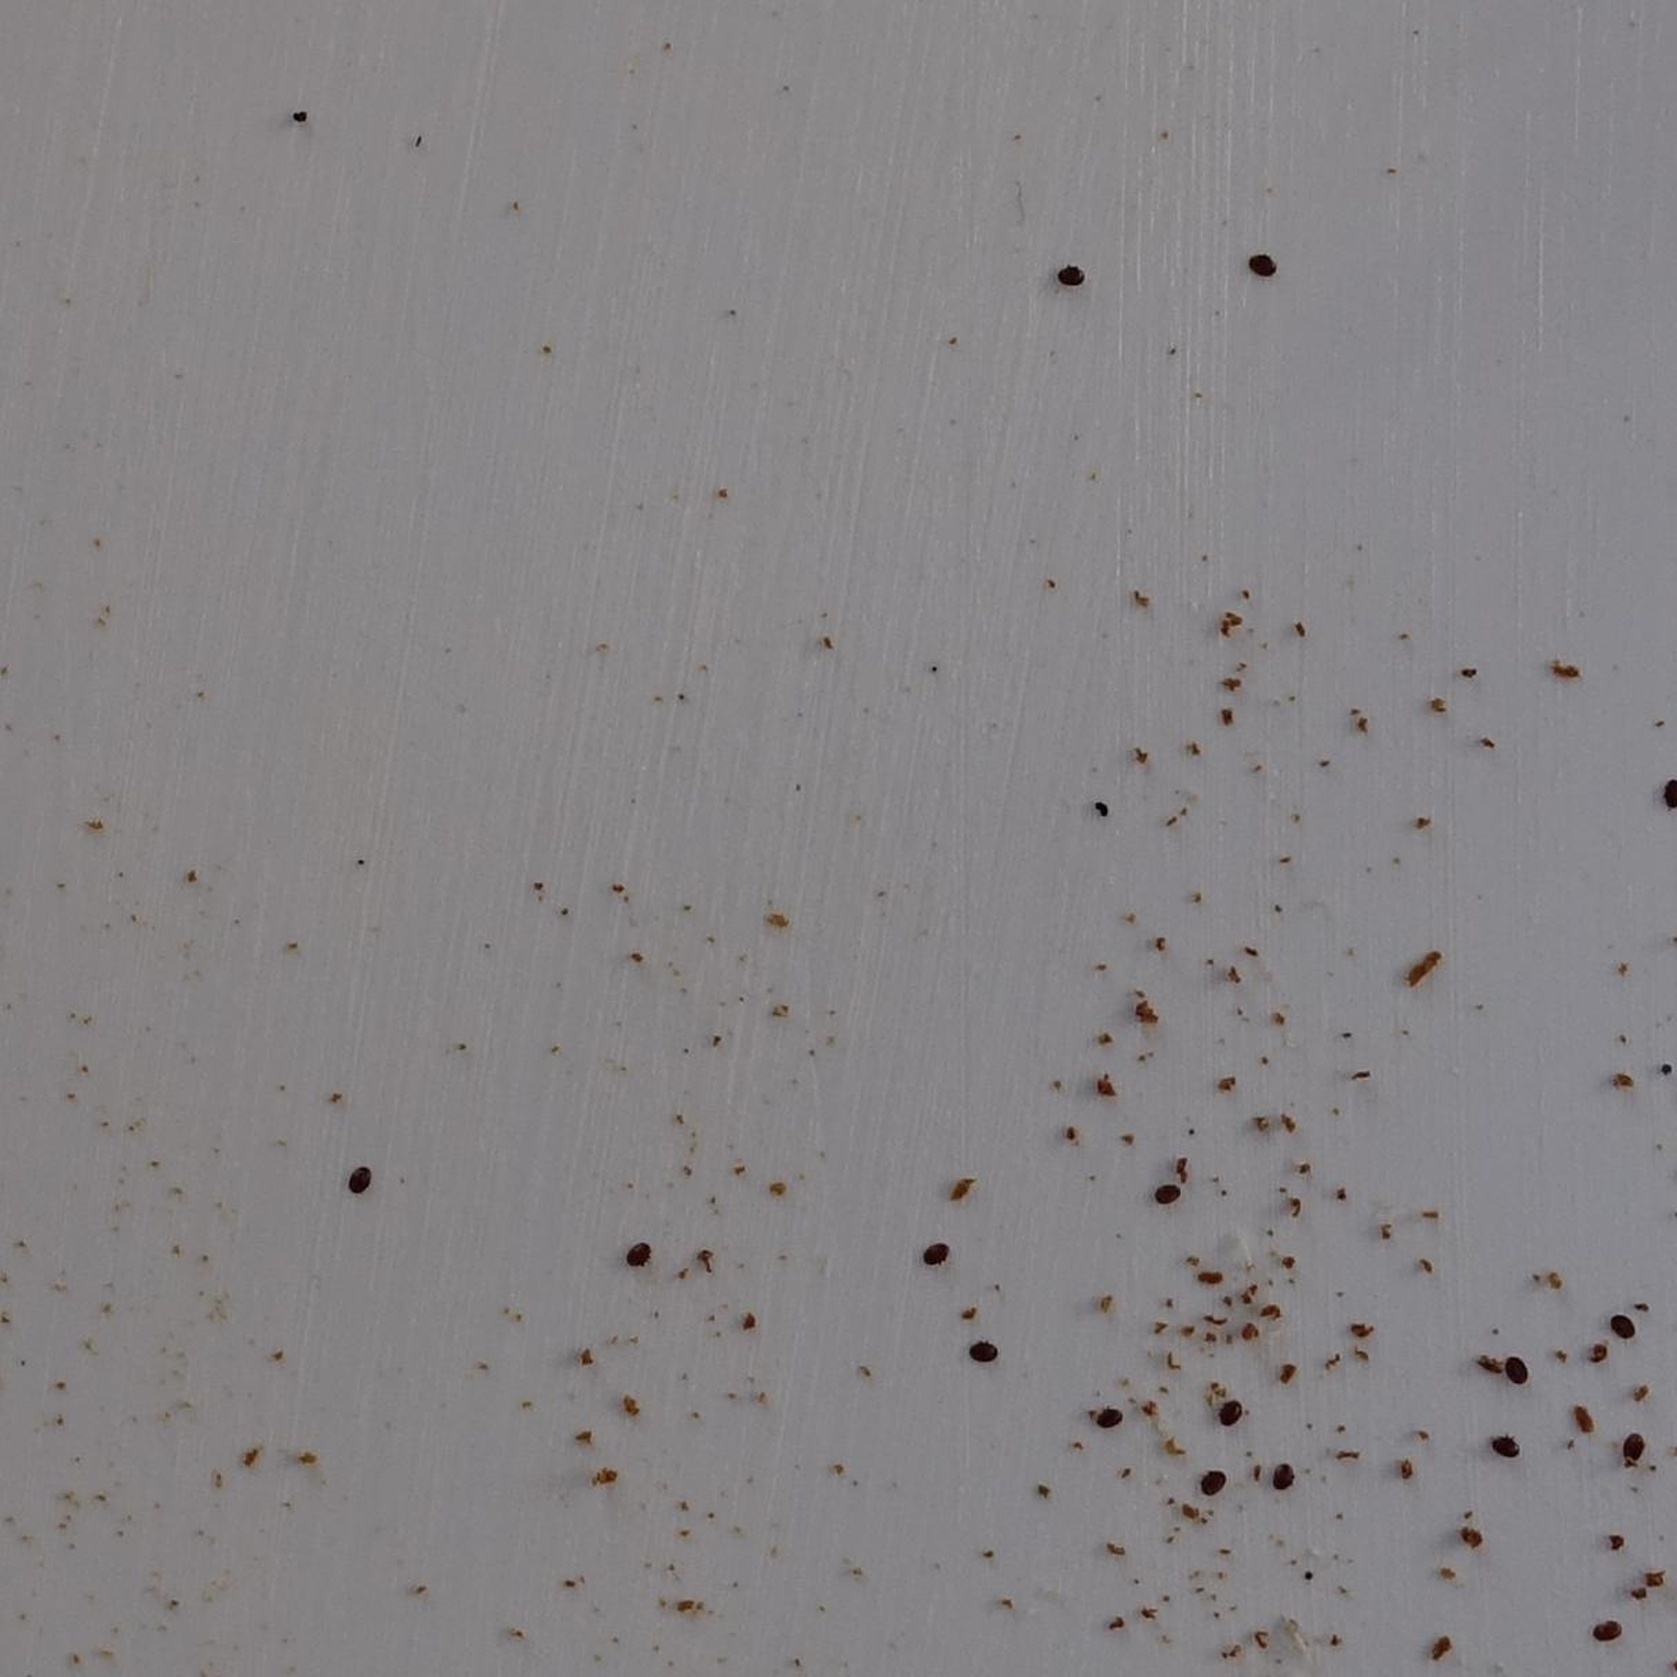Varroa: (1053, 255, 1083, 284), (1500, 1354, 1528, 1384), (977, 1335, 1001, 1362), (1250, 247, 1276, 272), (1198, 1471, 1222, 1497), (926, 1236, 951, 1262), (1493, 1434, 1517, 1460), (1609, 1311, 1634, 1338), (1593, 1616, 1617, 1640), (623, 1245, 647, 1272), (1622, 1434, 1645, 1460), (1606, 1623, 1629, 1649), (1096, 1407, 1120, 1431), (1272, 1468, 1295, 1493), (347, 1163, 370, 1186), (643, 1244, 666, 1267), (1156, 1184, 1178, 1207), (1218, 1404, 1238, 1425), (640, 1238, 647, 1259)
